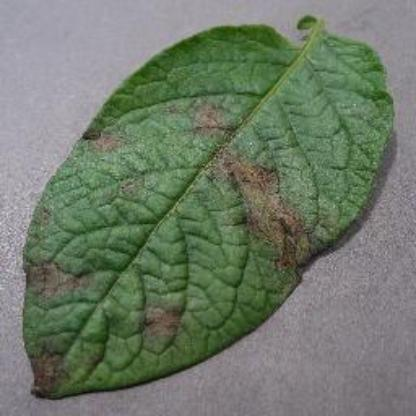Late-Blight: (17, 12, 400, 400)
